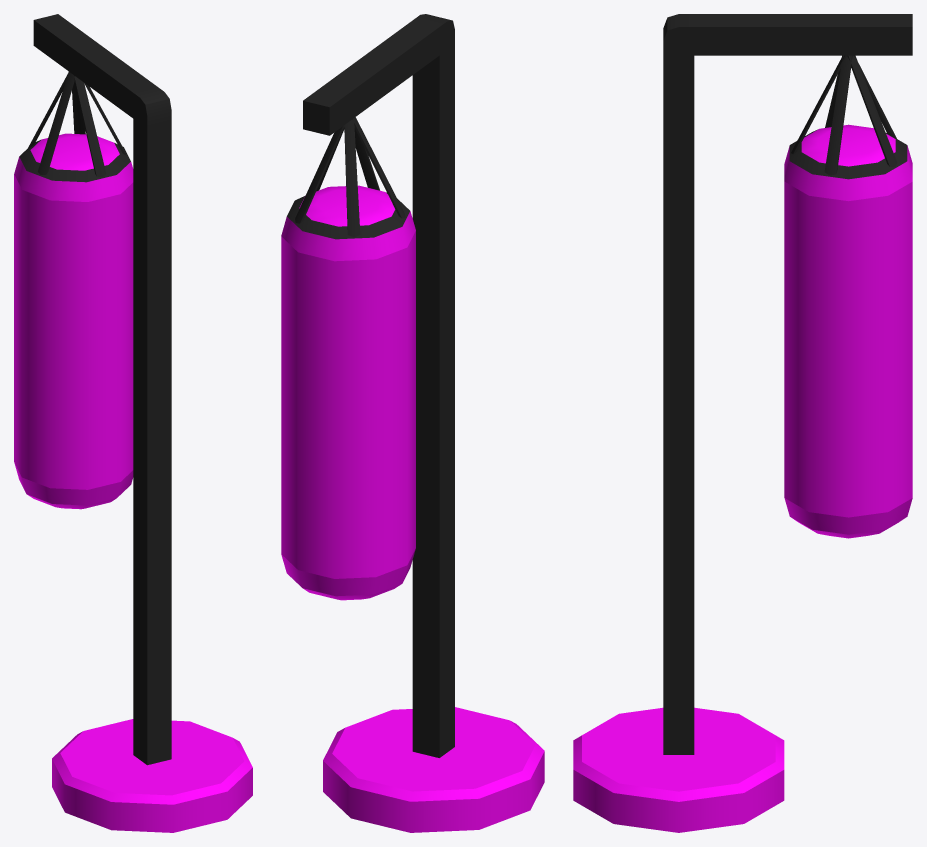
File: PunchingBag.fbx
3 views of the same model, side by side, from view 1: azimuth 30°, elevation 25°; view 2: azimuth 150°, elevation 25°; view 3: azimuth 270°, elevation 25° (orthographic). The views are drawn at different scales.
Parts seen in each view (by area): view 1: PunchingBag; view 2: PunchingBag; view 3: PunchingBag.
Part boxes in pixels (x1=…): PunchingBag: x1=14, y1=14, x2=252, y2=832; PunchingBag: x1=281, y1=14, x2=544, y2=832; PunchingBag: x1=573, y1=14, x2=912, y2=832.
Size of the model in its own units: 1.03 by 3.91 by 1.57.
